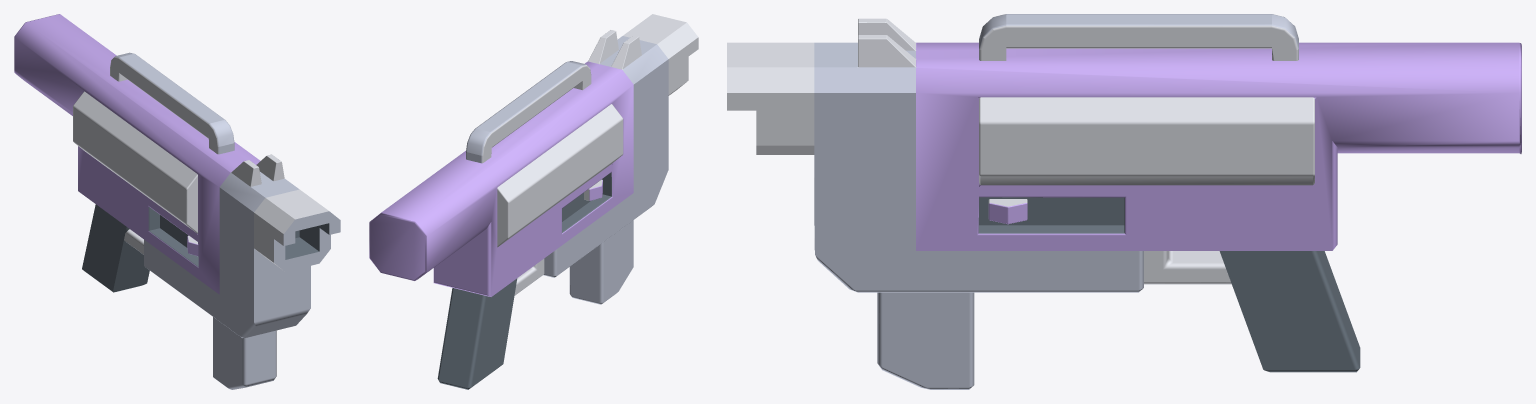
Rendered from blaster01.fbx.
3 views of the same model, side by side, from view 1: azimuth 30°, elevation 25°; view 2: azimuth 150°, elevation 25°; view 3: azimuth 270°, elevation 25° (orthographic). The views are drawn at different scales.
Visible parts, largest first — view 1: blasterA; view 2: blasterA; view 3: blasterA.
Part boxes in pixels (x1,y1,x2,y2): blasterA: (14,14,340,389); blasterA: (369,14,698,389); blasterA: (727,14,1521,389).
Bounding box in the file's own units: 14 × 41.06 × 82.
